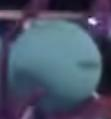algae: (8, 20, 102, 111)
